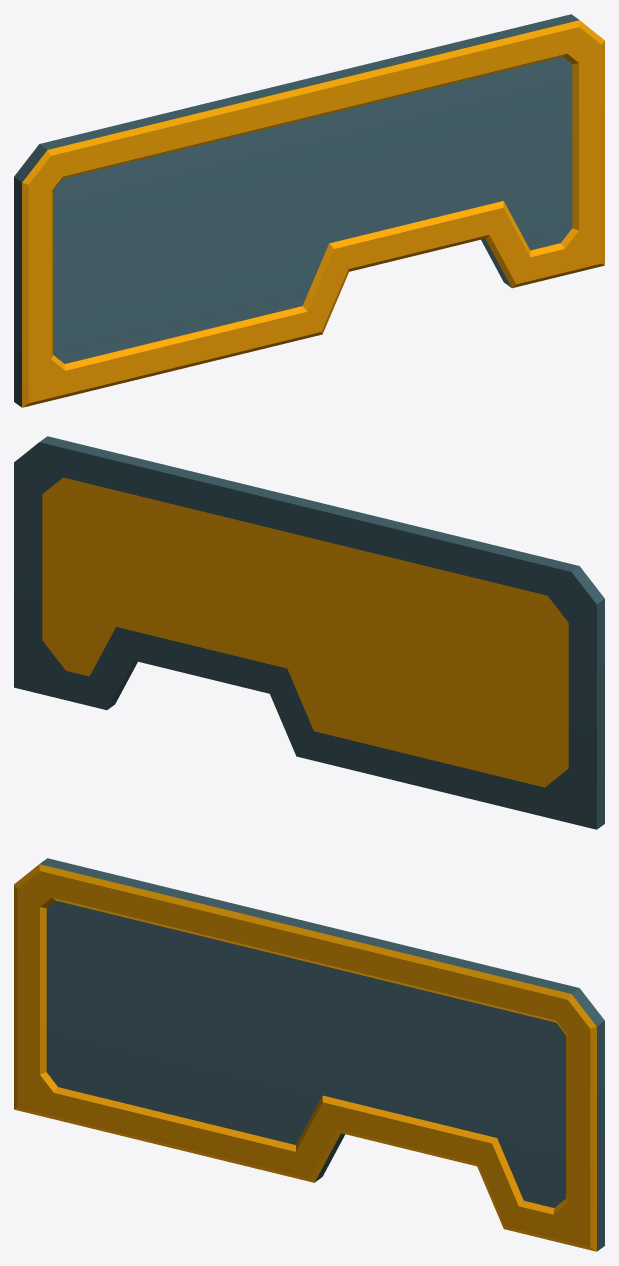
File: Container_type_A_door_006.fbx
The picture shows the model from 3 angles, top to bottom: view 1: azimuth 30°, elevation 25°; view 2: azimuth 150°, elevation 25°; view 3: azimuth 330°, elevation 25°; orthographic projection.
Parts seen in each view (by area): view 1: Container_type_A_door_006; view 2: Container_type_A_door_006; view 3: Container_type_A_door_006.
Boxes of the visible parts, x1,y1,x2,y2 form: Container_type_A_door_006: [14, 14, 604, 407]; Container_type_A_door_006: [14, 436, 604, 829]; Container_type_A_door_006: [14, 858, 604, 1251].
Size of the model in its own units: 206 by 6 by 85.19.
